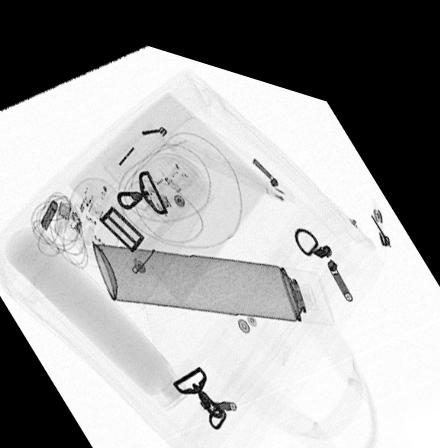Sprayer: (89, 236, 335, 306)
